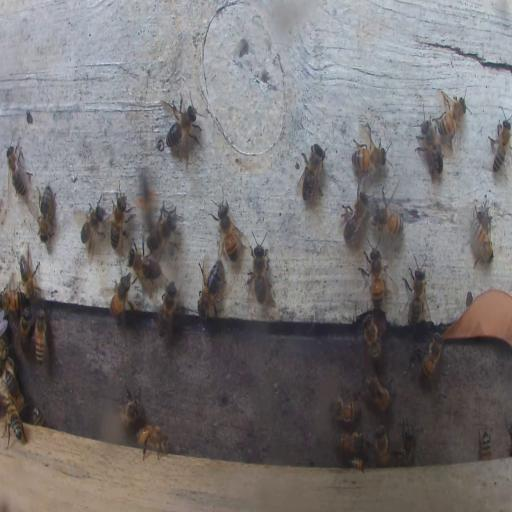nonpollenbee: (160, 97, 200, 152), (245, 230, 270, 305), (404, 252, 428, 330), (296, 140, 327, 200), (436, 92, 468, 150), (416, 115, 445, 178), (148, 203, 180, 259), (80, 196, 108, 258), (214, 196, 240, 262), (196, 258, 224, 317), (340, 192, 370, 244), (471, 197, 493, 265), (155, 280, 178, 344), (488, 113, 512, 173), (373, 191, 404, 235), (136, 421, 170, 461), (109, 182, 128, 252), (6, 144, 30, 199), (418, 332, 444, 382), (362, 372, 392, 414), (128, 245, 160, 283), (36, 183, 56, 240), (365, 246, 383, 308), (18, 250, 40, 300), (351, 144, 390, 172), (108, 272, 130, 320), (396, 416, 416, 467), (119, 386, 142, 428), (330, 430, 368, 455), (363, 312, 381, 361), (4, 368, 24, 412), (4, 405, 24, 446), (330, 396, 359, 424), (373, 424, 391, 468), (34, 308, 46, 362), (2, 287, 26, 314), (20, 306, 31, 347), (479, 429, 492, 461), (28, 406, 44, 425), (348, 456, 366, 470)
pollenbee: (135, 164, 158, 224)
